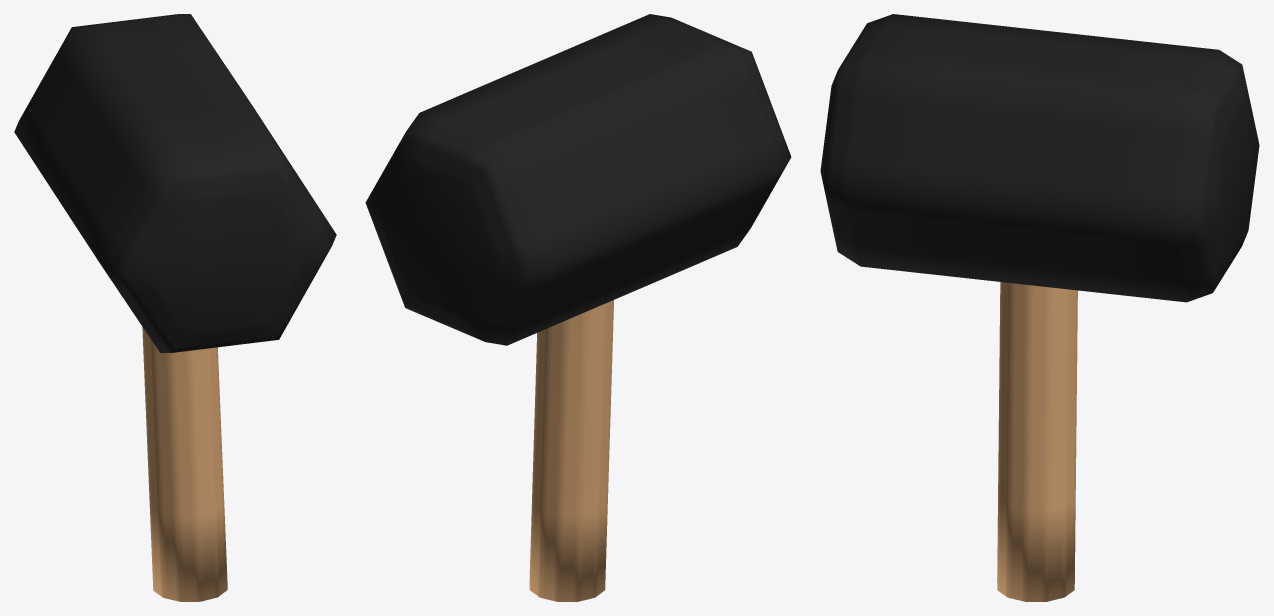
File: herramientas.glb
The picture shows the model from 3 angles, left to right: view 1: azimuth 30°, elevation 25°; view 2: azimuth 150°, elevation 25°; view 3: azimuth 270°, elevation 25°; orthographic projection. The views are drawn at different scales.
Visible parts, largest first — view 1: Mesh1_Group1_Component_1_1_Model; view 2: Mesh1_Group1_Component_1_1_Model; view 3: Mesh1_Group1_Component_1_1_Model.
Part boxes in pixels (x1,y1,x2,y2): Mesh1_Group1_Component_1_1_Model: (14,14,336,601); Mesh1_Group1_Component_1_1_Model: (365,14,791,601); Mesh1_Group1_Component_1_1_Model: (820,14,1259,601).
Size of the model in its own units: 0.1179 by 0.2045 by 0.1559.
